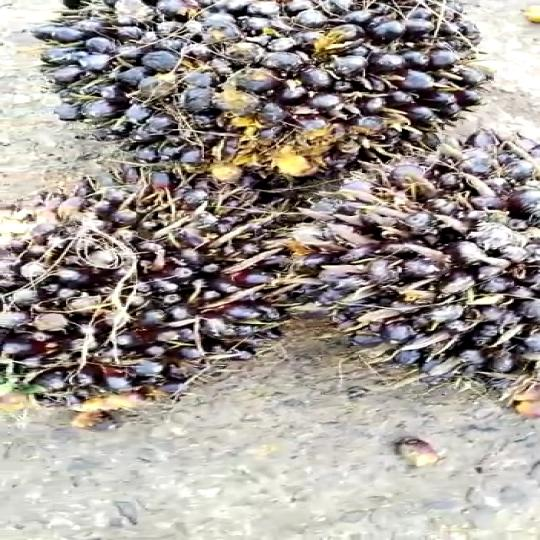mentah: (32, 0, 487, 187), (260, 118, 540, 412), (0, 158, 299, 419)
